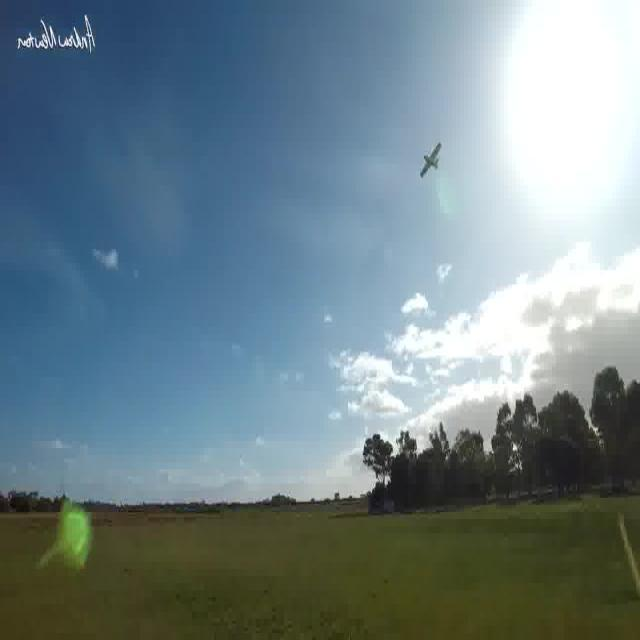iha: (414, 132, 450, 192)
